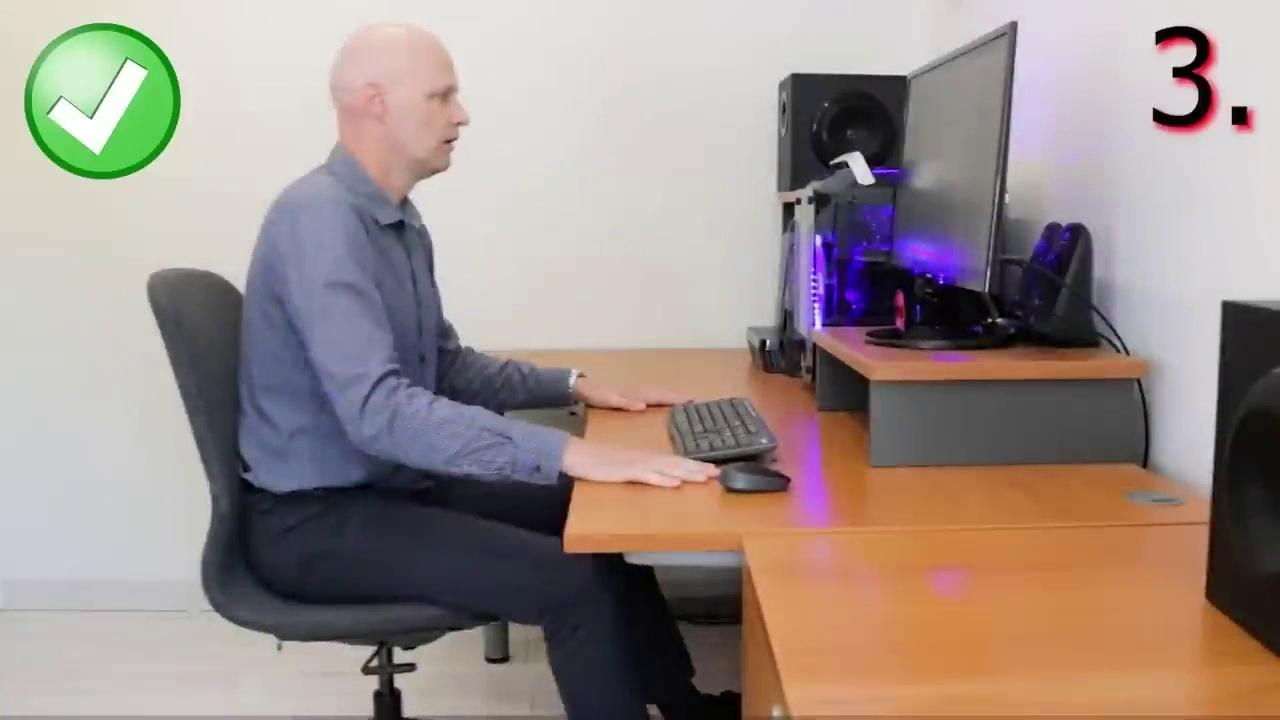GoodPosture: (261, 34, 738, 719)
